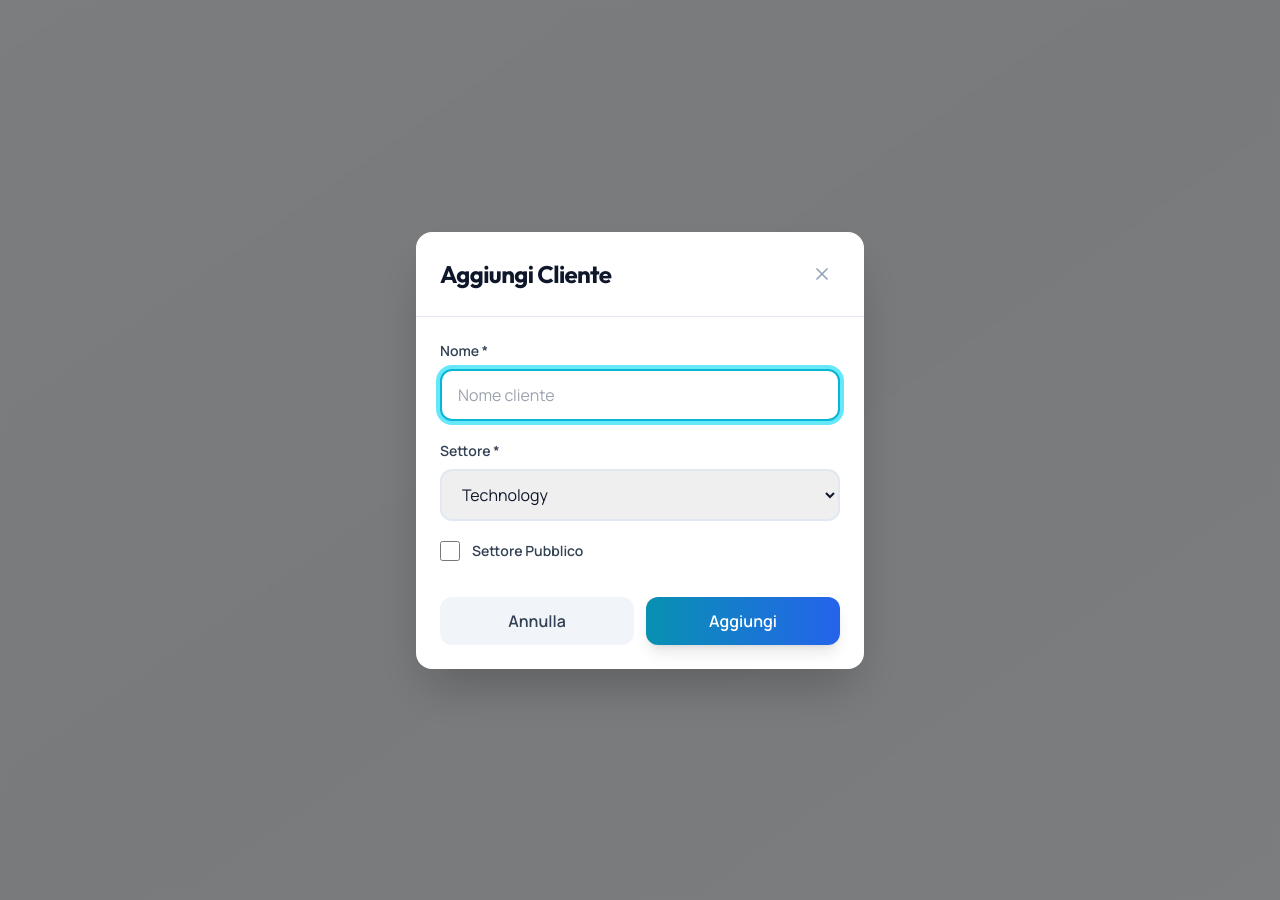
Test: QuickAddCustomerModal › Validation Errors › should clear name error when field is edited
Click the button "Aggiungi": (743, 620) x1=646 y1=596 x2=840 y2=644
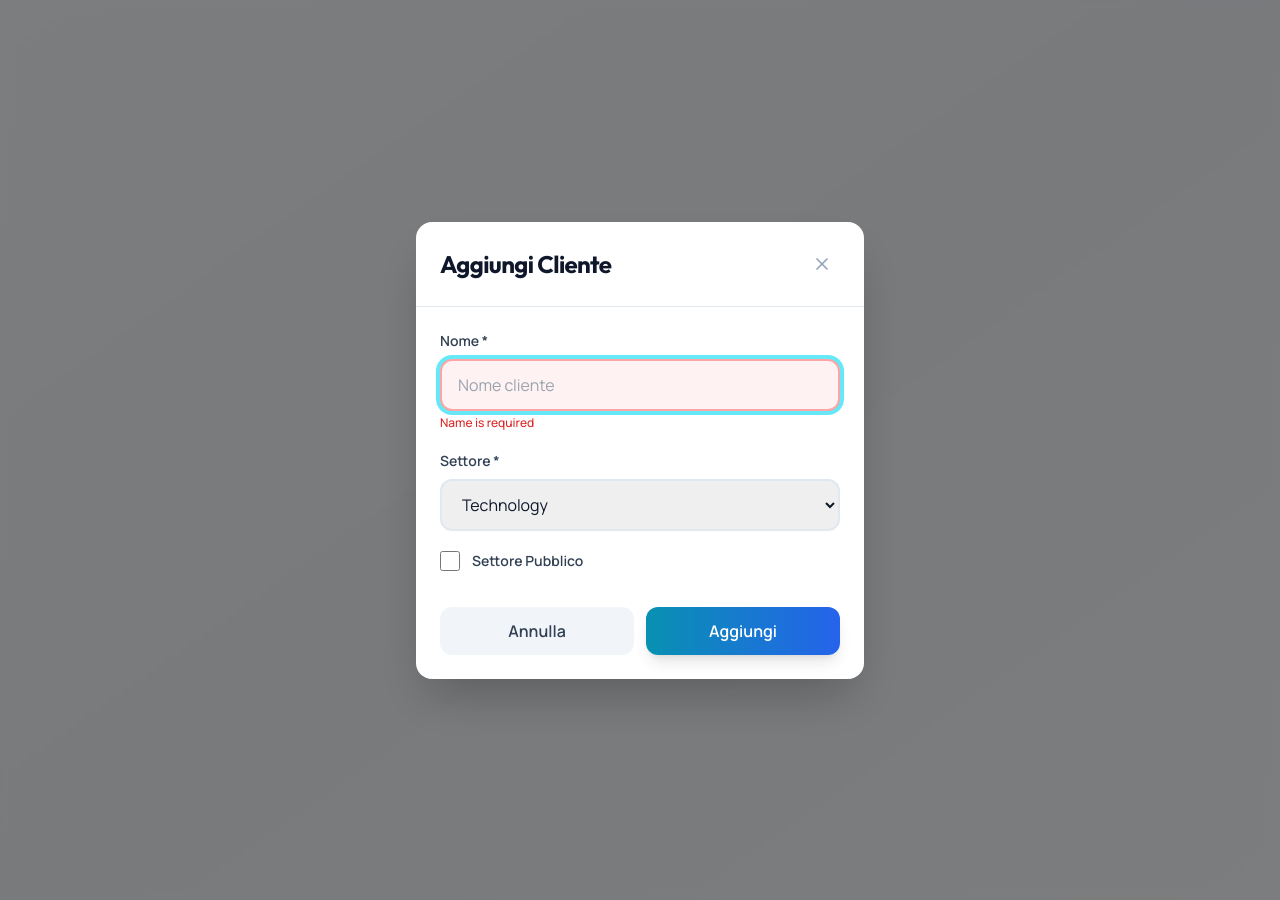
Expected: the text "Name is required" is shown, x1=440 y1=414 x2=534 y2=430
In the field labelled "Nome *": (640, 384) x1=440 y1=358 x2=840 y2=410, type "New Value"
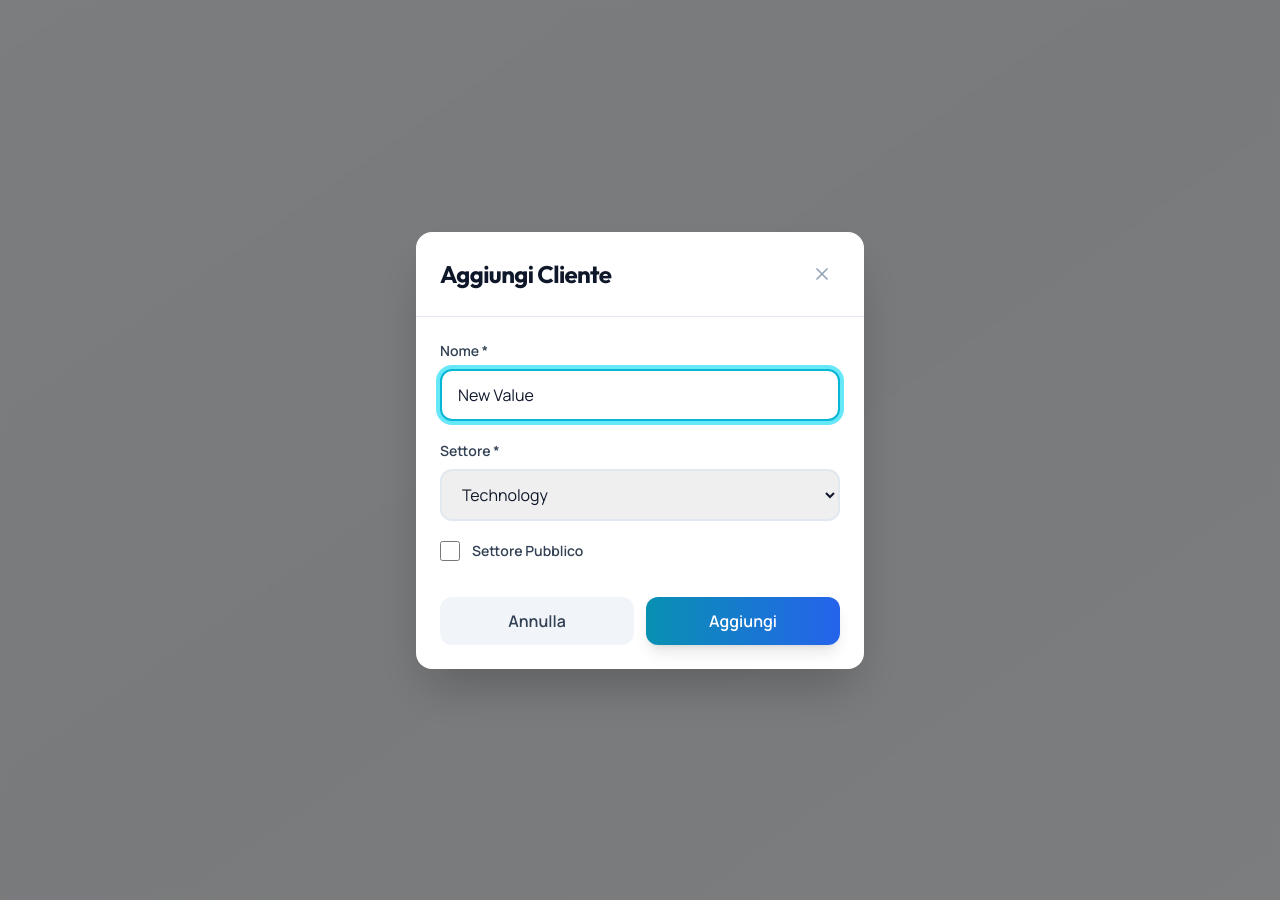
Expected: the text "Name is required" is gone
